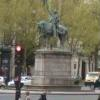Statue: (25, 7, 79, 54)
